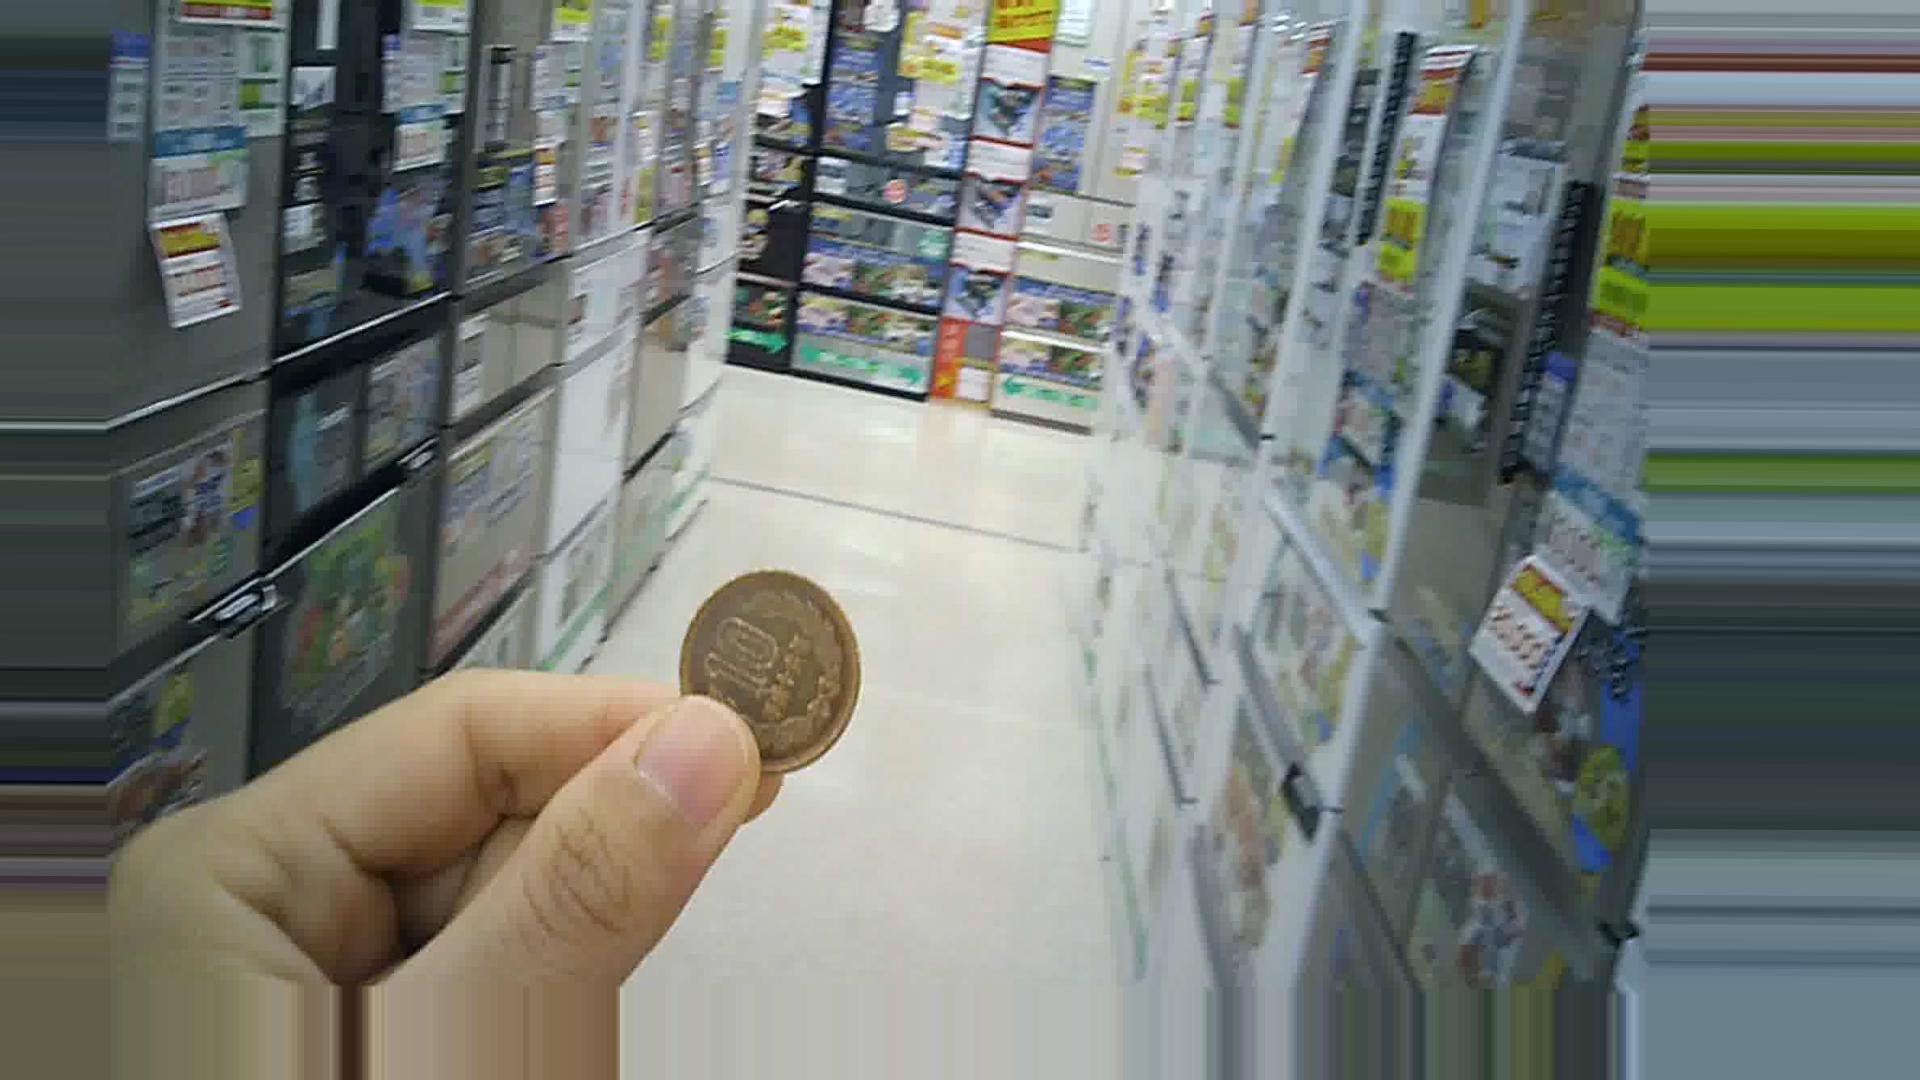10 Yen: (671, 572, 858, 781)
